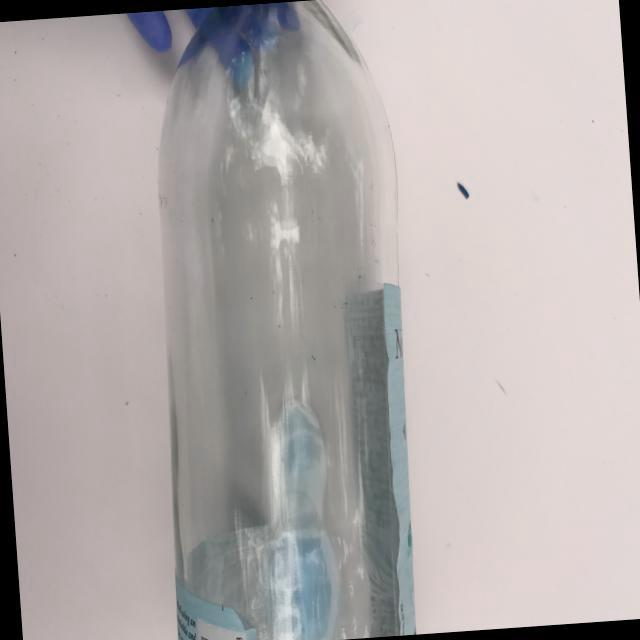glass: (122, 0, 452, 640)
